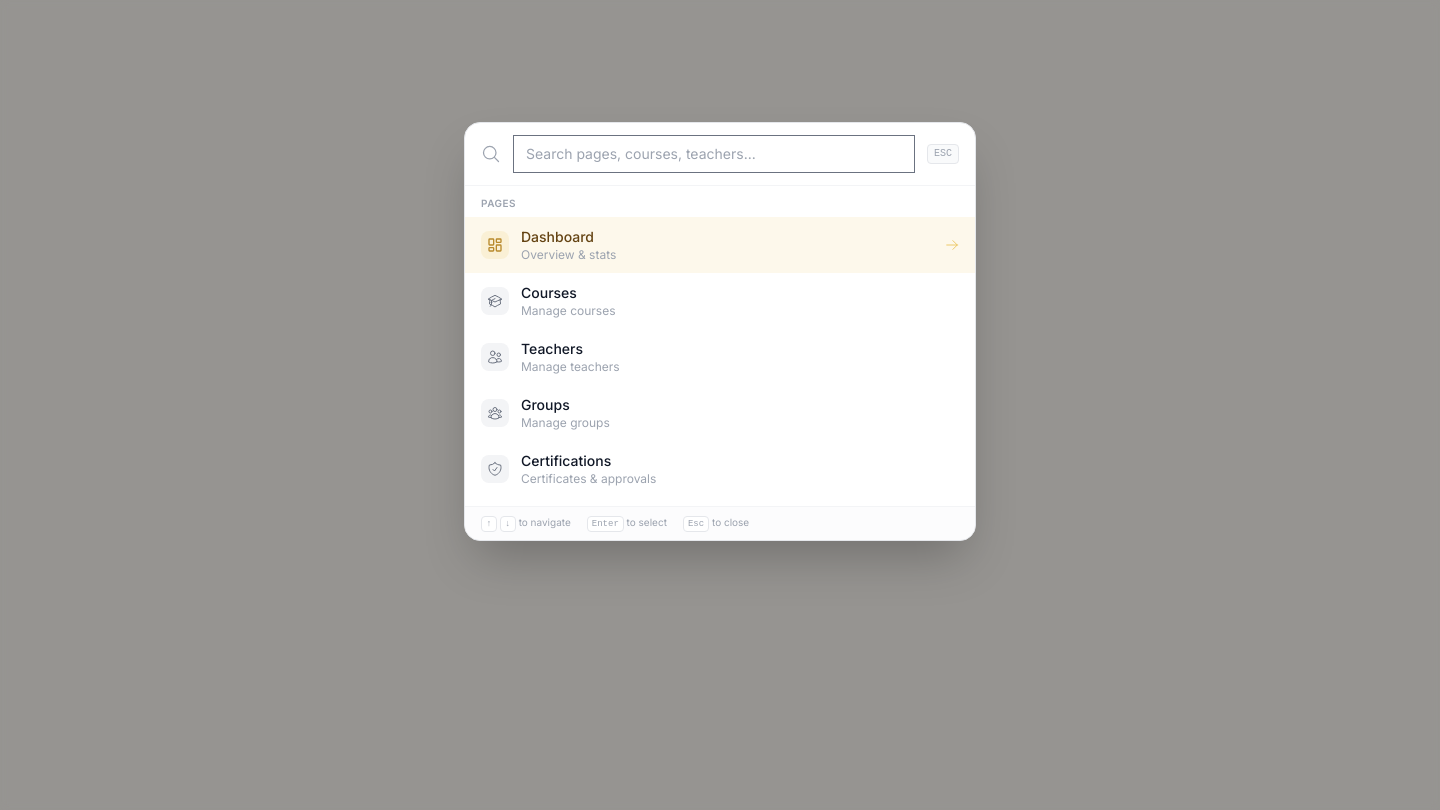
Test: CommandPalette — course search › shows course results from API
Type "math" into the field with placeholder "Search pages, courses, teachers..." at (714, 154), box top-left (513, 134), bottom-right (915, 172)
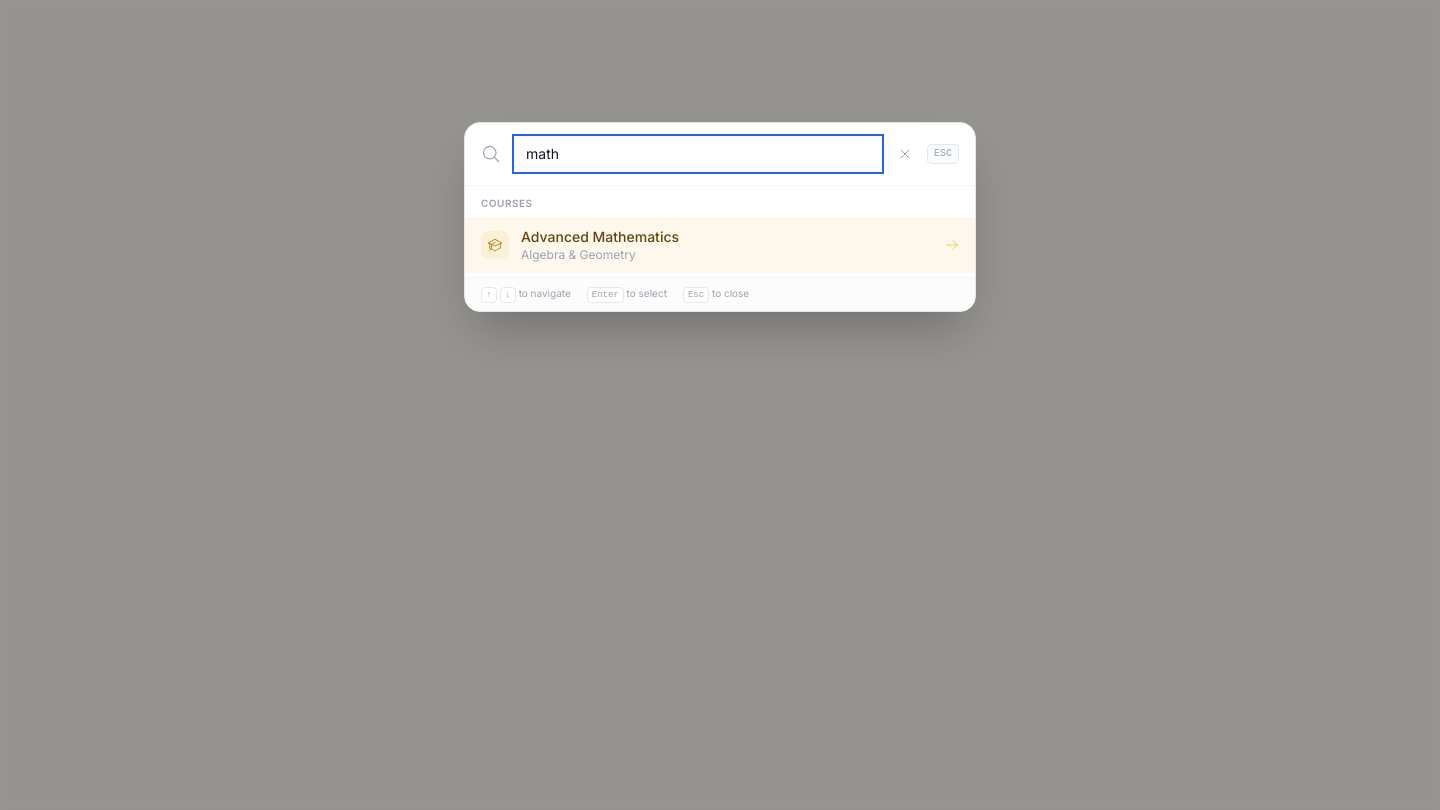
Check: the text "Advanced Mathematics" is shown, box top-left (521, 228), bottom-right (679, 244)
